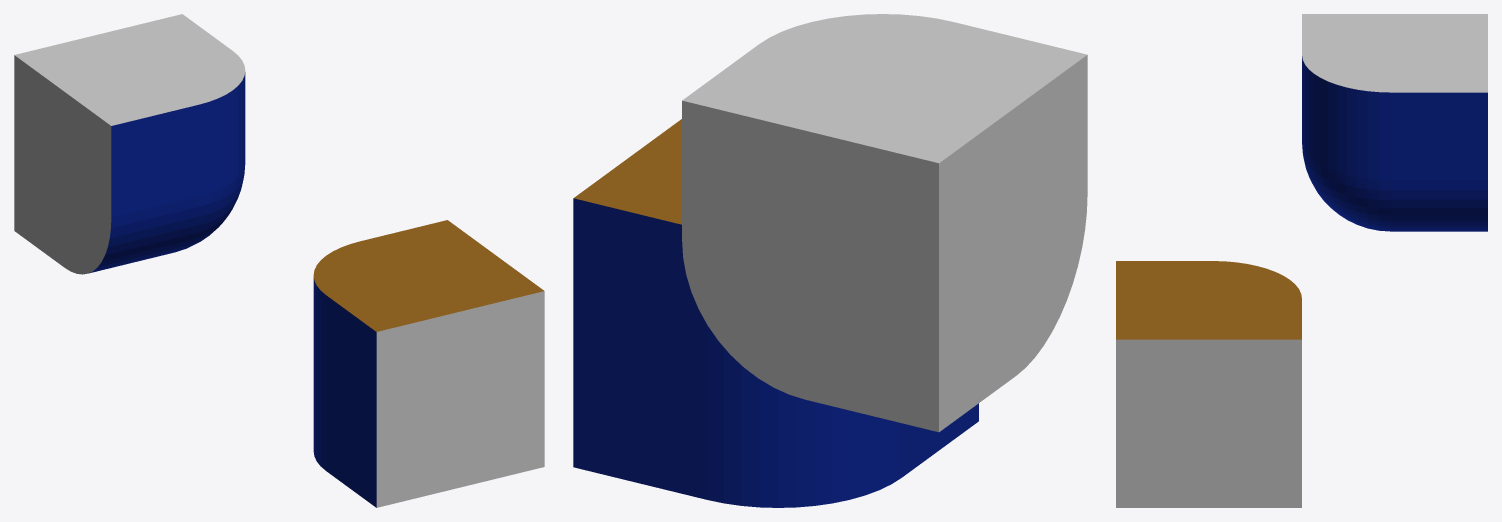
The model's file is case_20.fbx.
3 views of the same model, side by side, from view 1: azimuth 30°, elevation 25°; view 2: azimuth 150°, elevation 25°; view 3: azimuth 270°, elevation 25° (orthographic). The views are drawn at different scales.
Visible parts, largest first — view 1: case_20; view 2: case_20; view 3: case_20.
Boxes of the visible parts, left/top/right/bottom form: case_20: left=14, top=14, right=544, bottom=507; case_20: left=573, top=14, right=1087, bottom=507; case_20: left=1116, top=14, right=1487, bottom=507.
Size of the model in its own units: 1 by 1 by 1.
